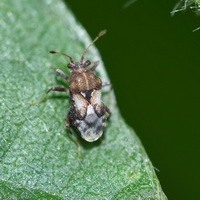insect: (50, 29, 110, 141)
